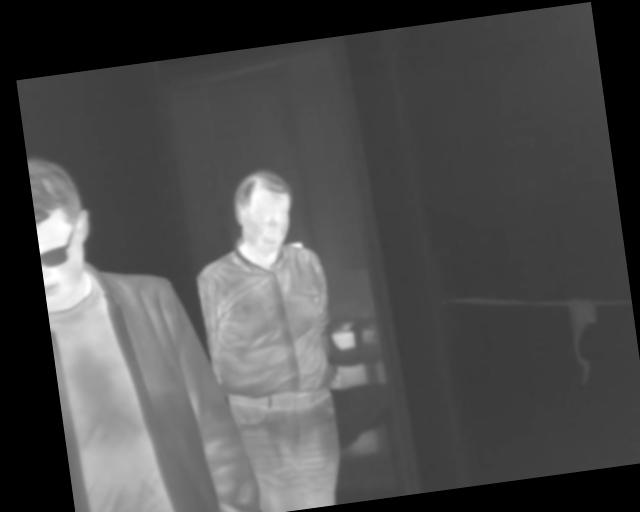face: (228, 164, 299, 259)
